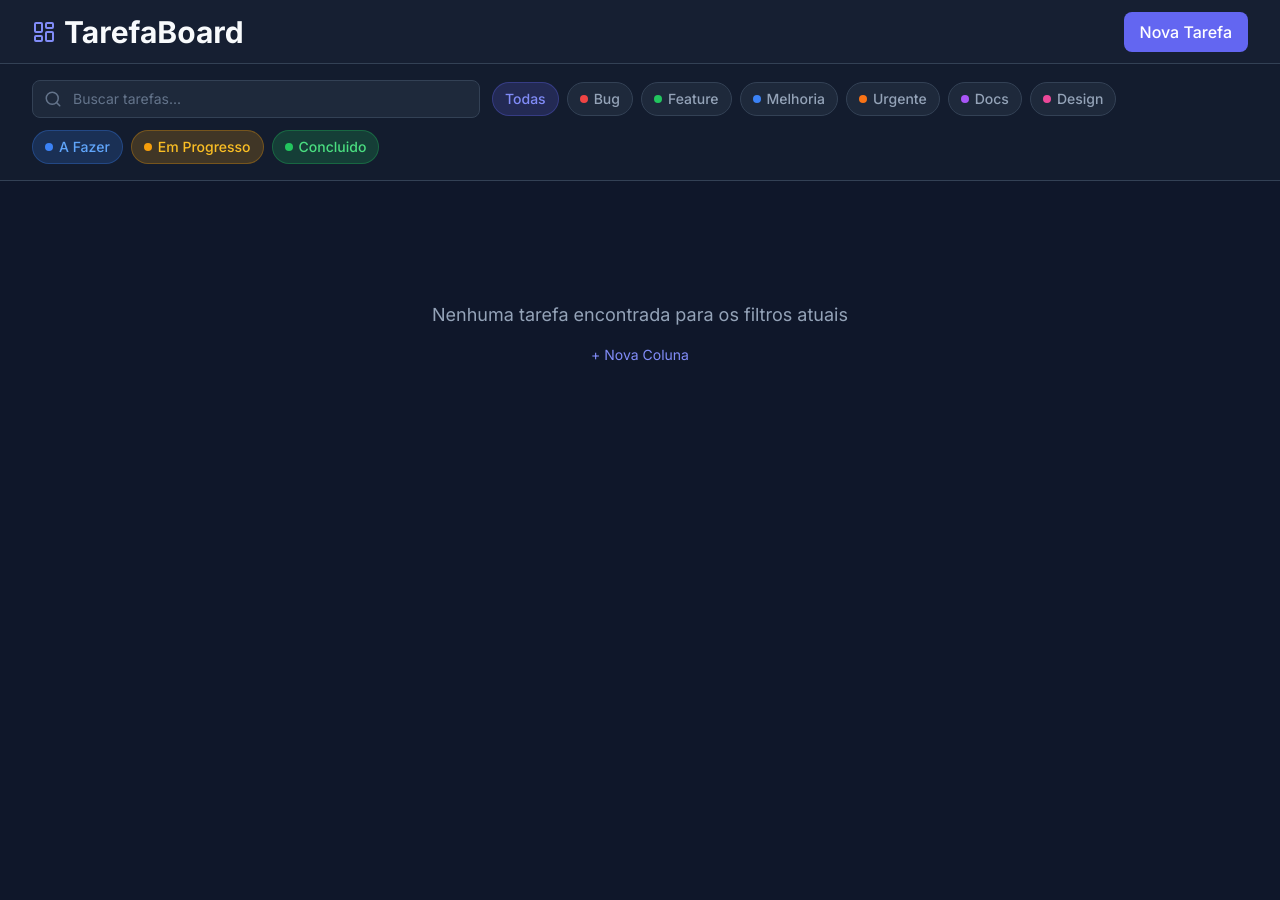
App › deve abrir modal ao clicar em Nova Tarefa
This screenshot has width=1280, height=900.
Click the button "Nova Tarefa": (1186,32) [1124,12,1248,52]
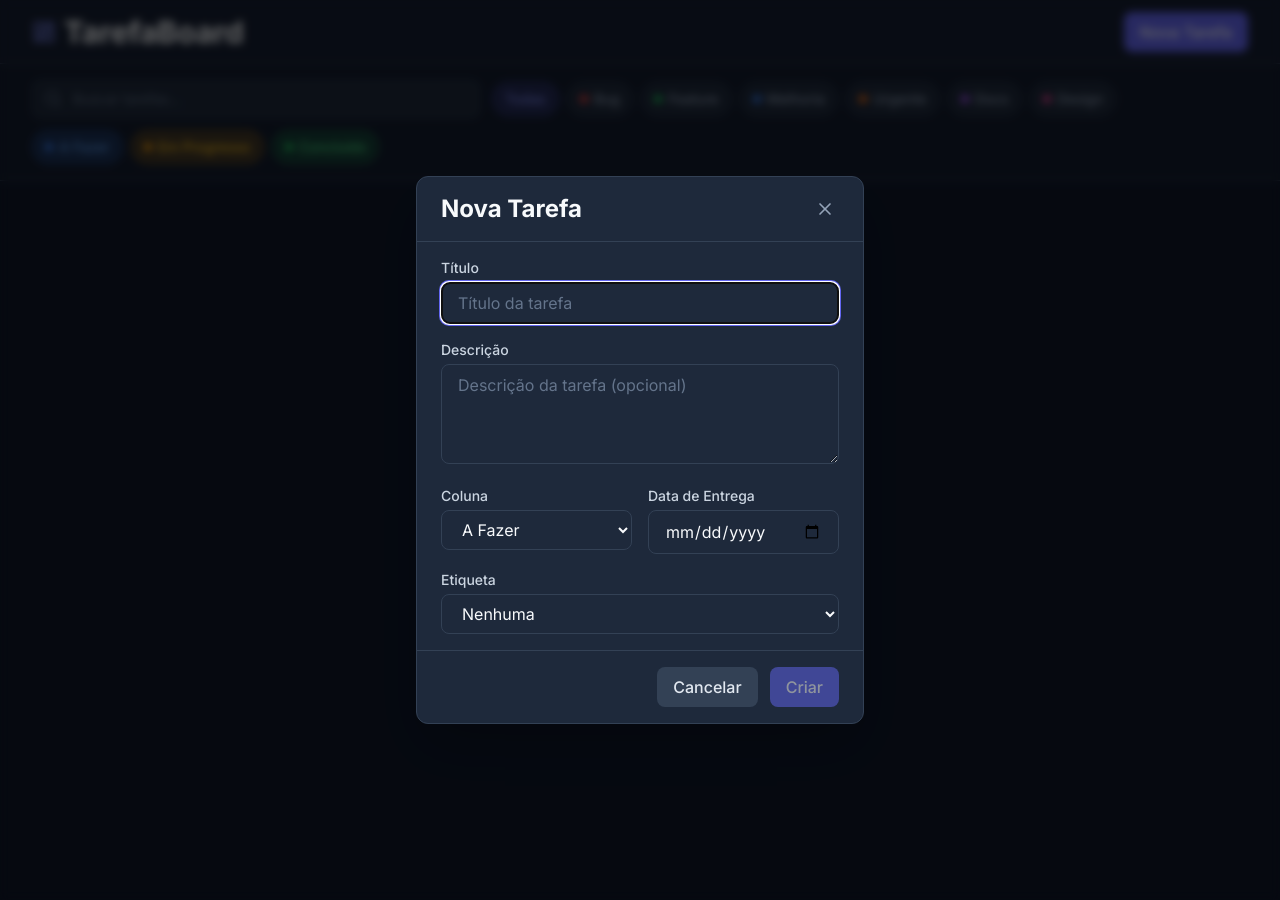
Now the button "Criar" is shown, box [770,667,839,707]
